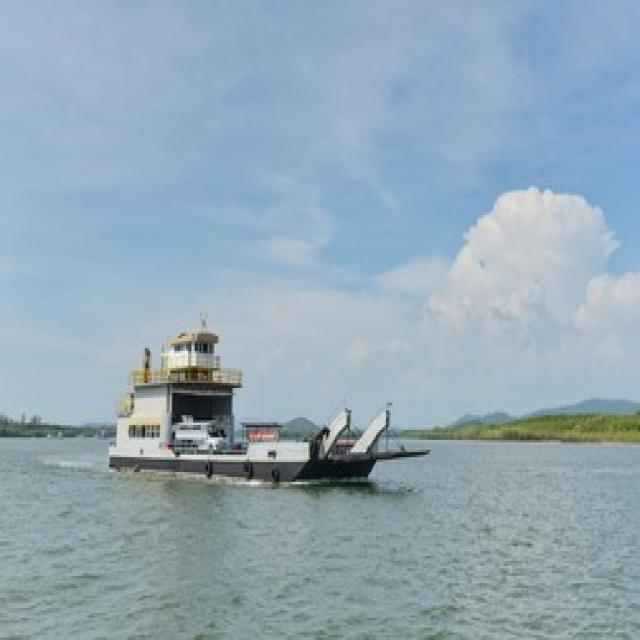fishing boat: (113, 304, 426, 484)
